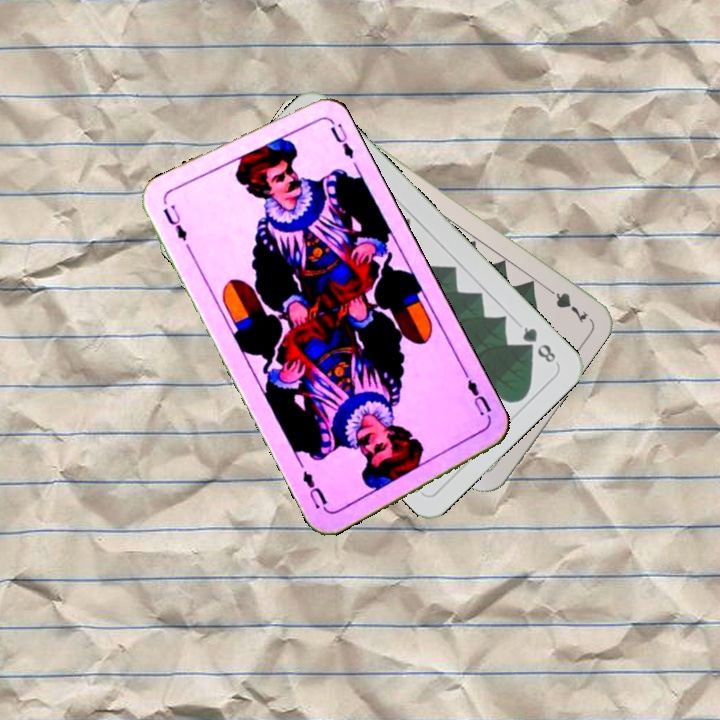EU: (461, 369, 496, 424), (159, 199, 190, 244)
G7: (539, 281, 591, 326)
G8: (518, 322, 559, 366)
